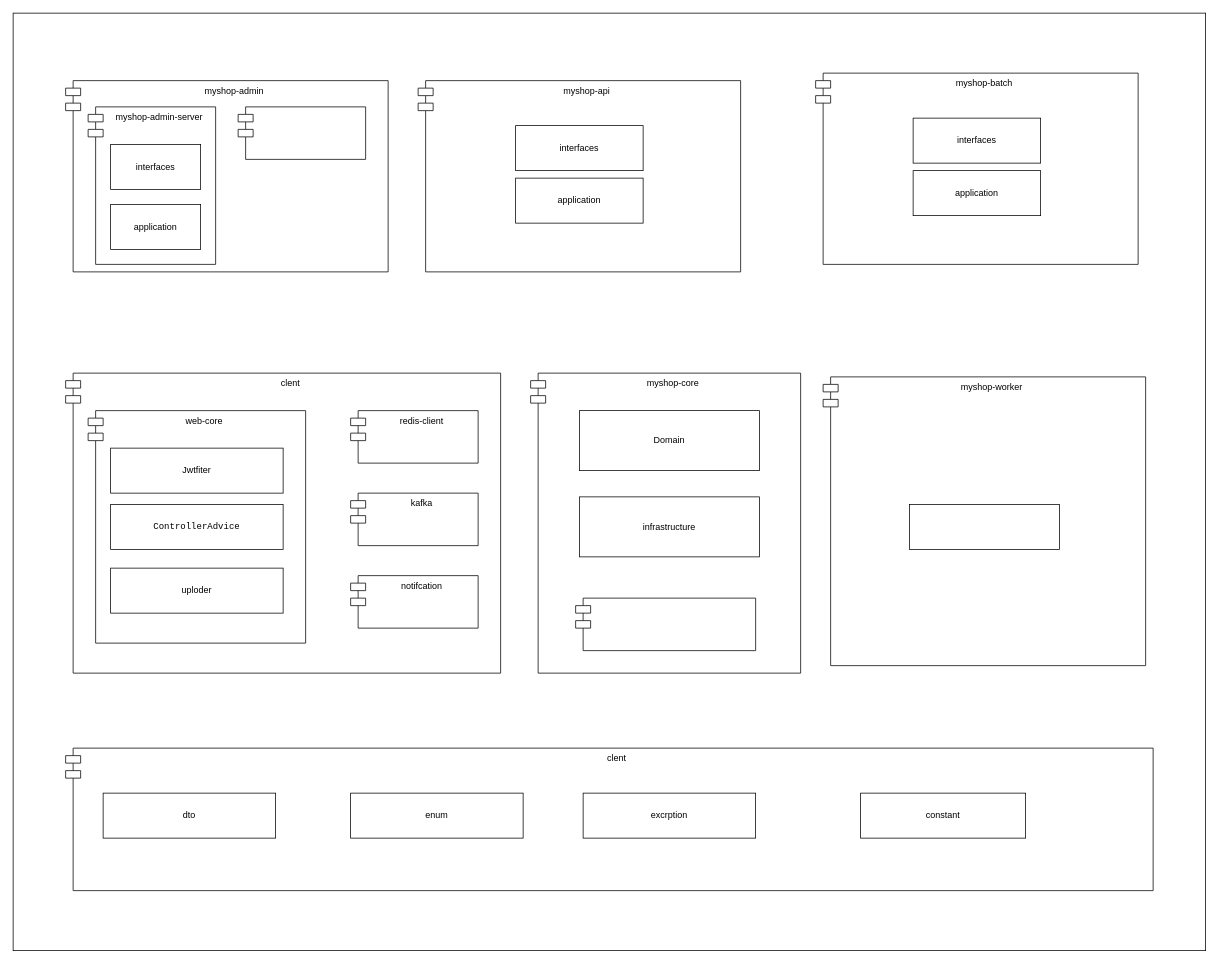
Image size: 1219x964. Some labels were removed from this diagram. Here are the shapes that lost their labels. From the top down, the centre of each, then its label:
At (x=301, y=132): "myshop-admin-front".
At (x=984, y=526): "consumer".
At (x=665, y=624): "testFixtures".
